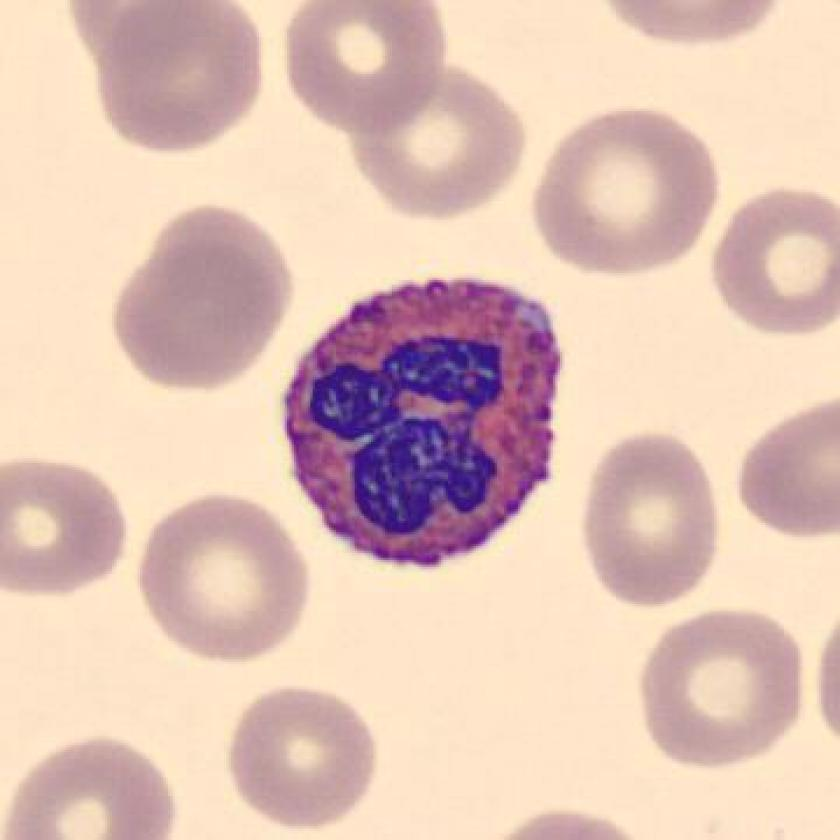eosinophil: (269, 265, 580, 584)
